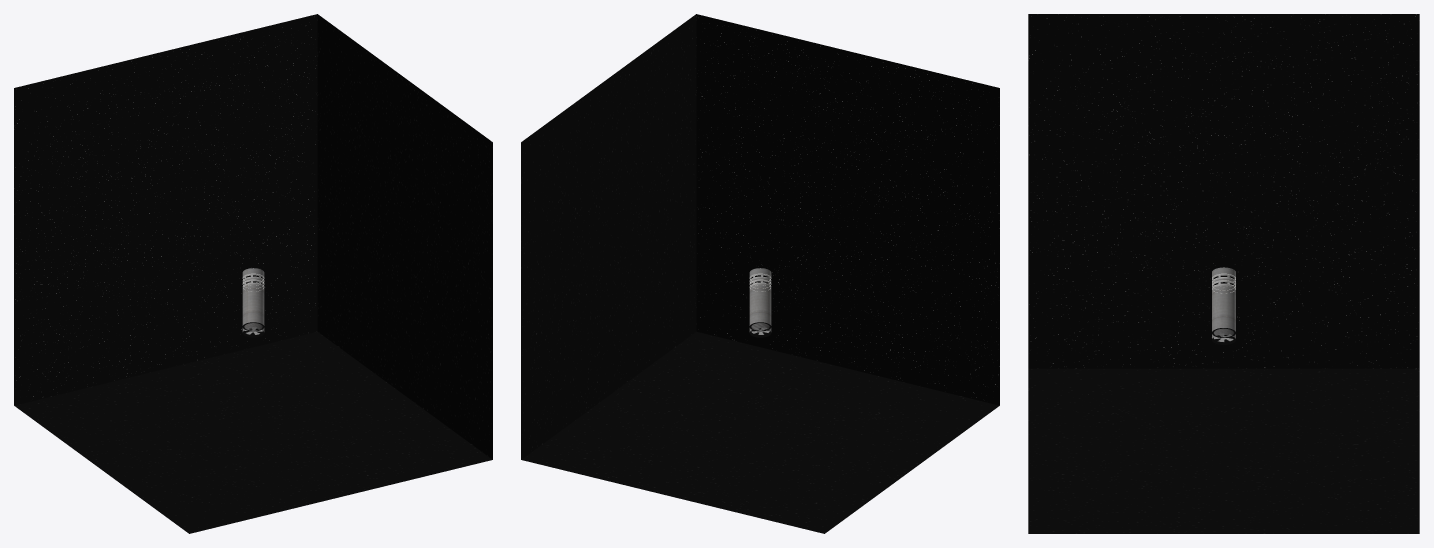
The model's file is environment.gltf.
The picture shows the model from 3 angles, left to right: view 1: azimuth 30°, elevation 25°; view 2: azimuth 150°, elevation 25°; view 3: azimuth 270°, elevation 25°; orthographic projection. The views are drawn at different scales.
Parts seen in each view (by area): view 1: space, warehouse; view 2: space, warehouse; view 3: space, warehouse.
Part boxes in pixels (x1,y1,x2,y2): space: (14, 14, 492, 533); warehouse: (242, 268, 264, 337); space: (521, 14, 999, 533); warehouse: (749, 268, 771, 337); space: (1028, 14, 1419, 533); warehouse: (1212, 267, 1235, 344).
Size of the model in its own units: 500 by 500 by 500.
Materials: 5 (5 with a texture image).
